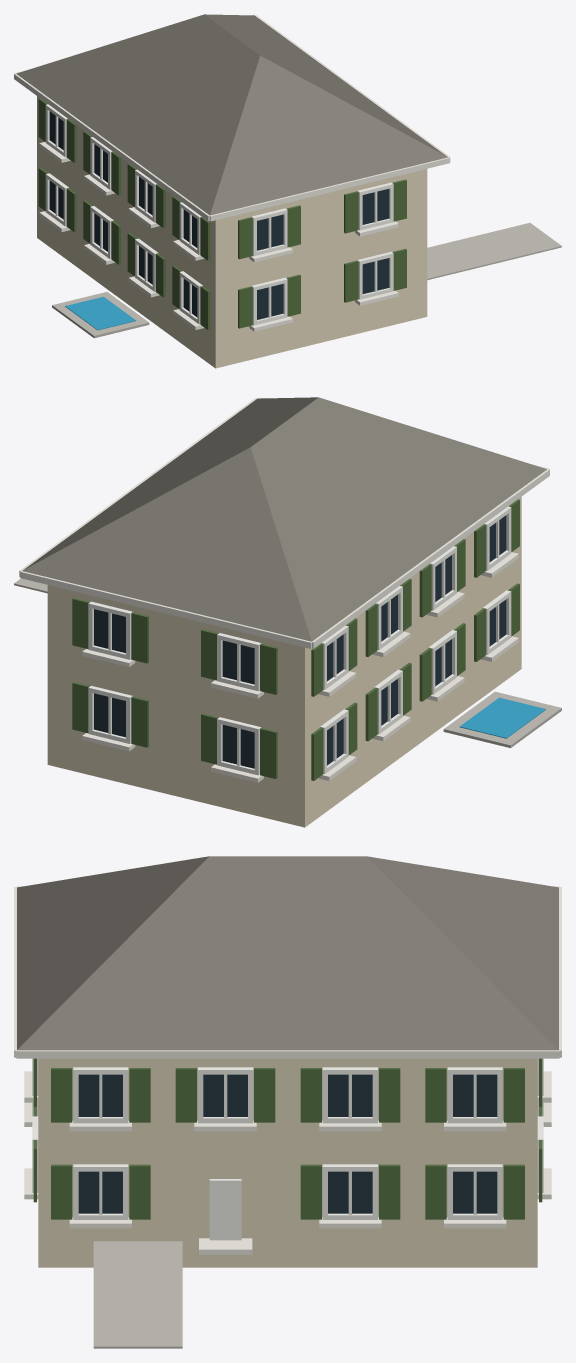
3 views of the same model, one above another, from view 1: azimuth 30°, elevation 25°; view 2: azimuth 150°, elevation 25°; view 3: azimuth 270°, elevation 25° (orthographic). The views are drawn at different scales.
Visible parts, largest first — view 1: b3374; view 2: b3374; view 3: b3374.
Boxes of the visible parts, left/top/right/bottom form: b3374: left=14, top=14, right=561, bottom=368; b3374: left=14, top=397, right=561, bottom=827; b3374: left=14, top=856, right=561, bottom=1348.
Bounding box in the file's own units: 8040 × 4200 × 6153.
